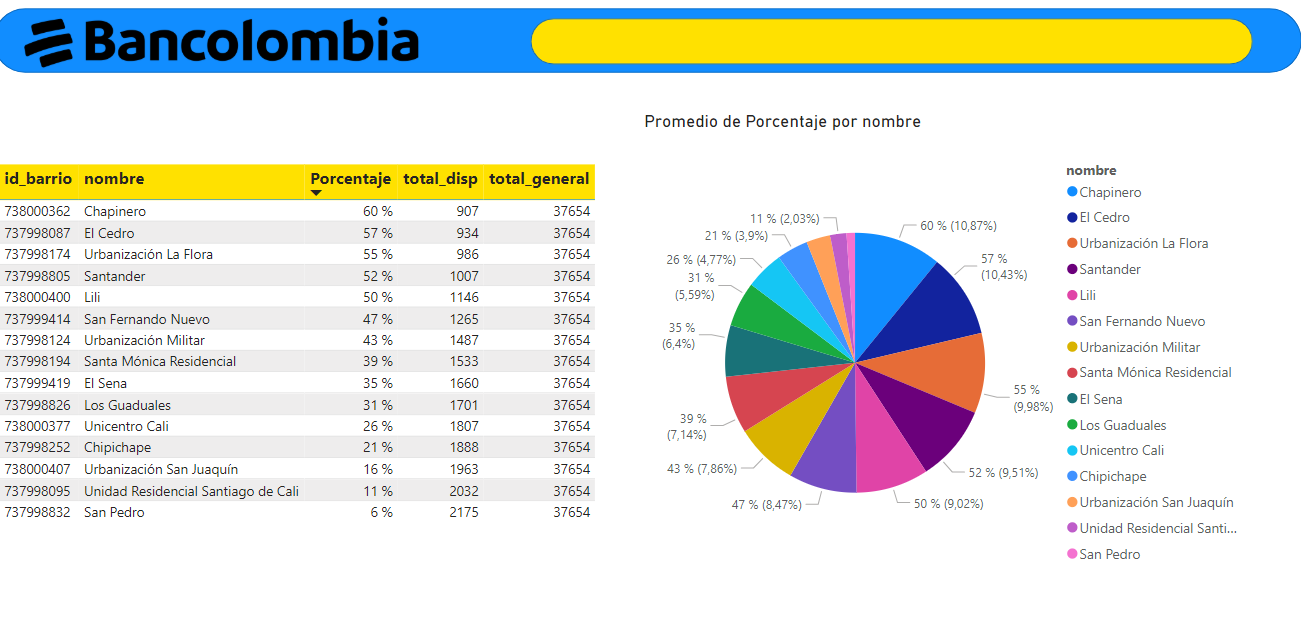

What the dashboard file says about the page in this screenshot:
{"tool":"powerbi","page":{"name":"3","canvas":[1280,720],"ordinal":1},"visuals":[{"type":"shape","box":[0,70,1280.3,63.1],"z":0},{"type":"shape","box":[525.6,79.6,706.7,45.3],"z":1000},{"type":"image","box":[26.1,61.7,397.9,83.7],"z":2000},{"type":"tableEx","fields":{"Values":["punto3_sql.id_barrio","punto3_sql.nombre","punto3_sql.Porcentaje","punto3_sql.total_disp","punto3_sql.total_general"]},"box":[0,217.7,600.6,380.4],"z":3000},{"type":"pieChart","fields":{"Category":["punto3_sql.nombre"],"Y":["Avg(punto3_sql.Porcentaje)"]},"box":[631.9,170.2,600.6,474.2],"z":4000}]}

Visuals, with their boxes on the page's 1280x720 design canvas (x1, y1, x2, y2). These are canvas units, not pixel positions in the 1301x632 screenshot, which may show the page scaled, cropped or inside an application window:
shape: l=0, t=70, r=1280, b=133
shape: l=526, t=80, r=1232, b=125
image: l=26, t=62, r=424, b=145
tableEx - punto3_sql.id_barrio x punto3_sql.nombre: l=0, t=218, r=601, b=598
pieChart - punto3_sql.nombre x Avg(punto3_sql.Porcentaje): l=632, t=170, r=1232, b=644
